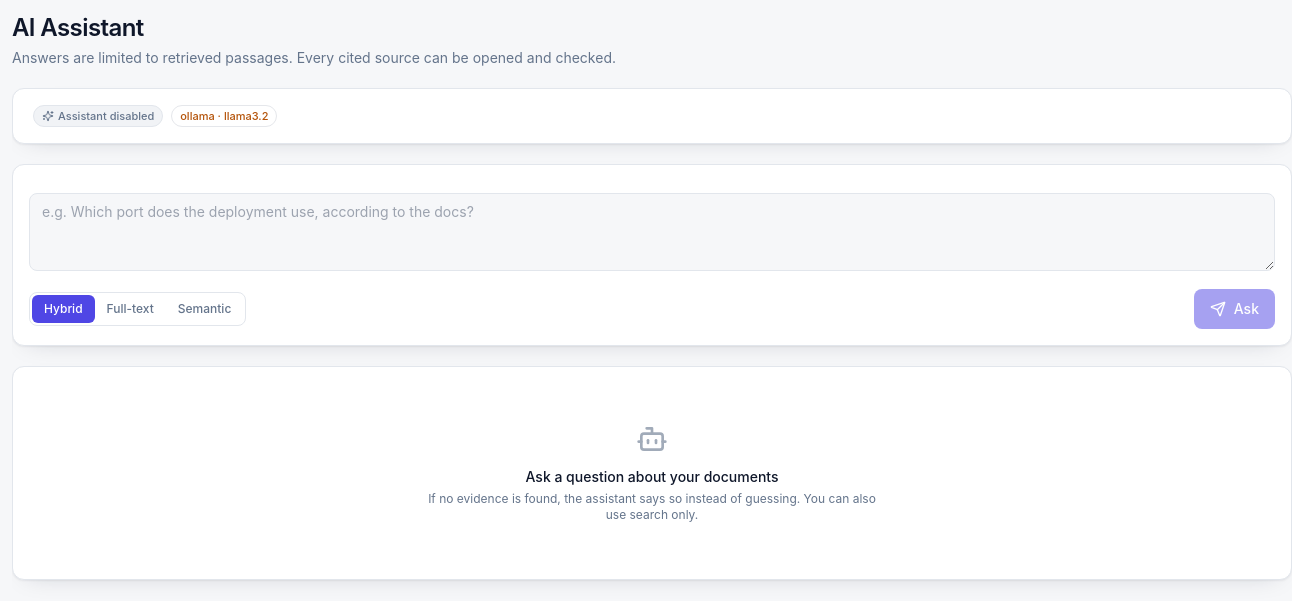
Test: Assistant page › shows a warning when citations were removed
Type "What port?" into the text box named "Question" at (652, 232), box [29,193,1275,271]
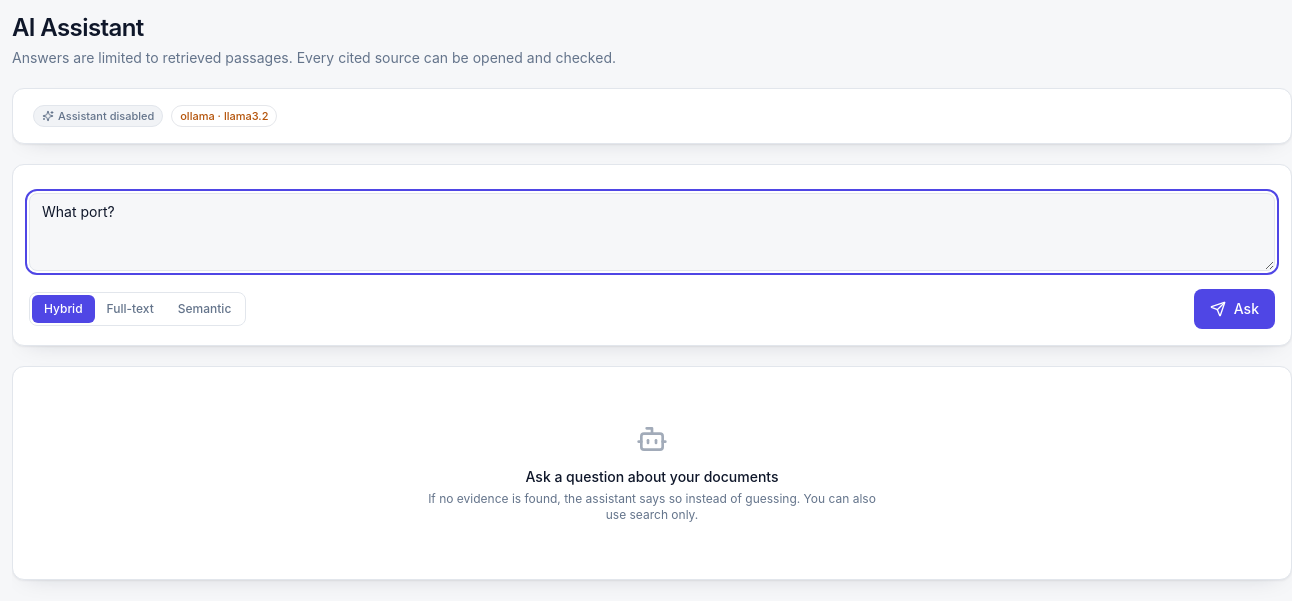
Click the button "Ask" at (1234, 309), box [1194,289,1275,329]
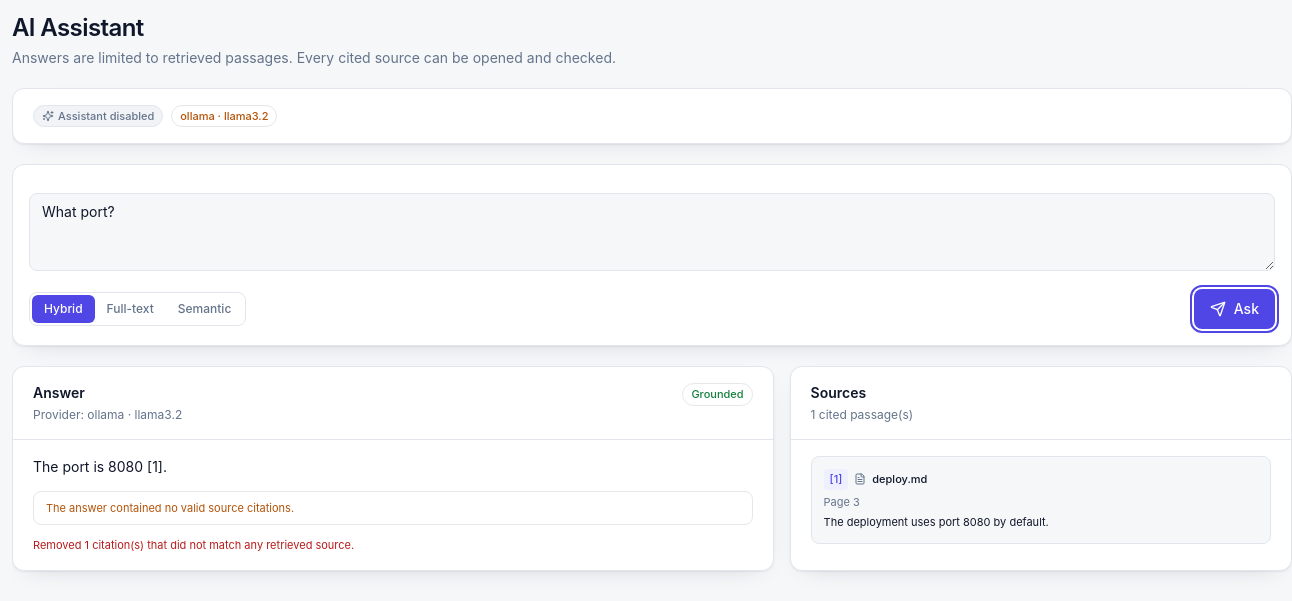
Expected: the text "Removed 1 citation(s) that did not match any retrieved source." is shown, [33,538,354,552]
Expected: the text "The answer contained no valid source citations." is shown, [33,491,753,525]
